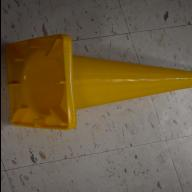cone: (4, 33, 192, 130)
